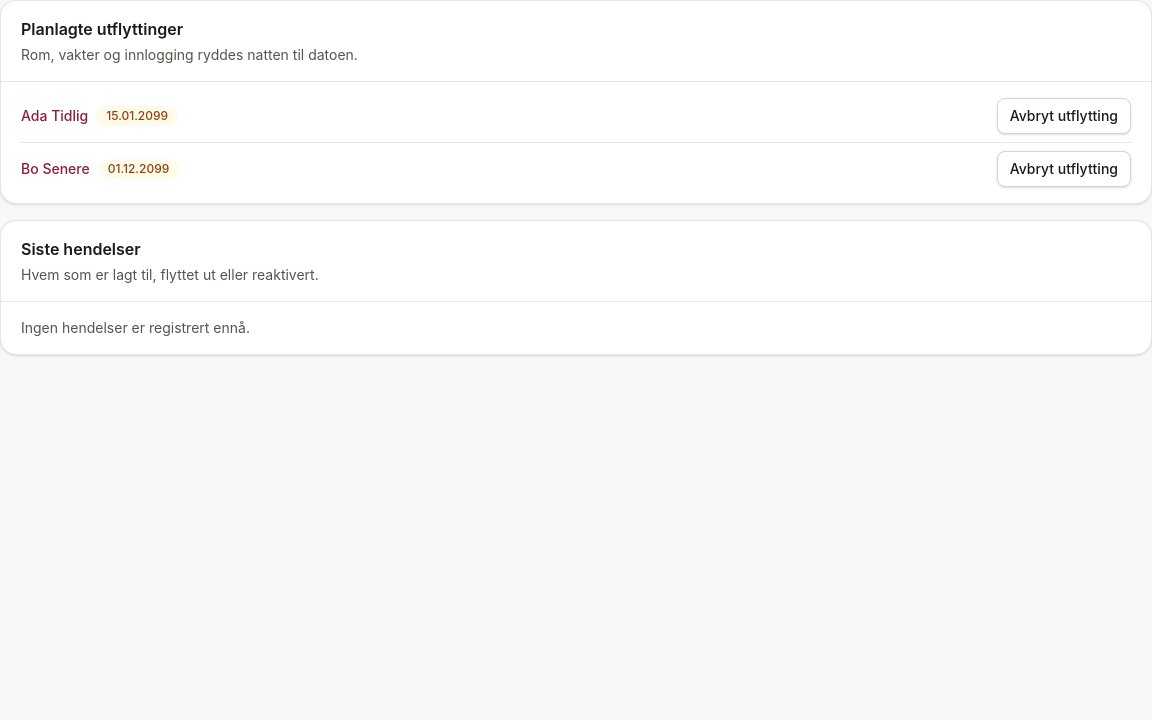
MoveOutsTab › shows why when a cancel is refused, and keeps the list
This screenshot has width=1152, height=720.
What coordinates should you click on to do the following:
click the button "Avbryt utflytting" in the row of "Ada Tidlig"
I would click on:
 (1064, 116)
Its box is [997, 98, 1131, 134].
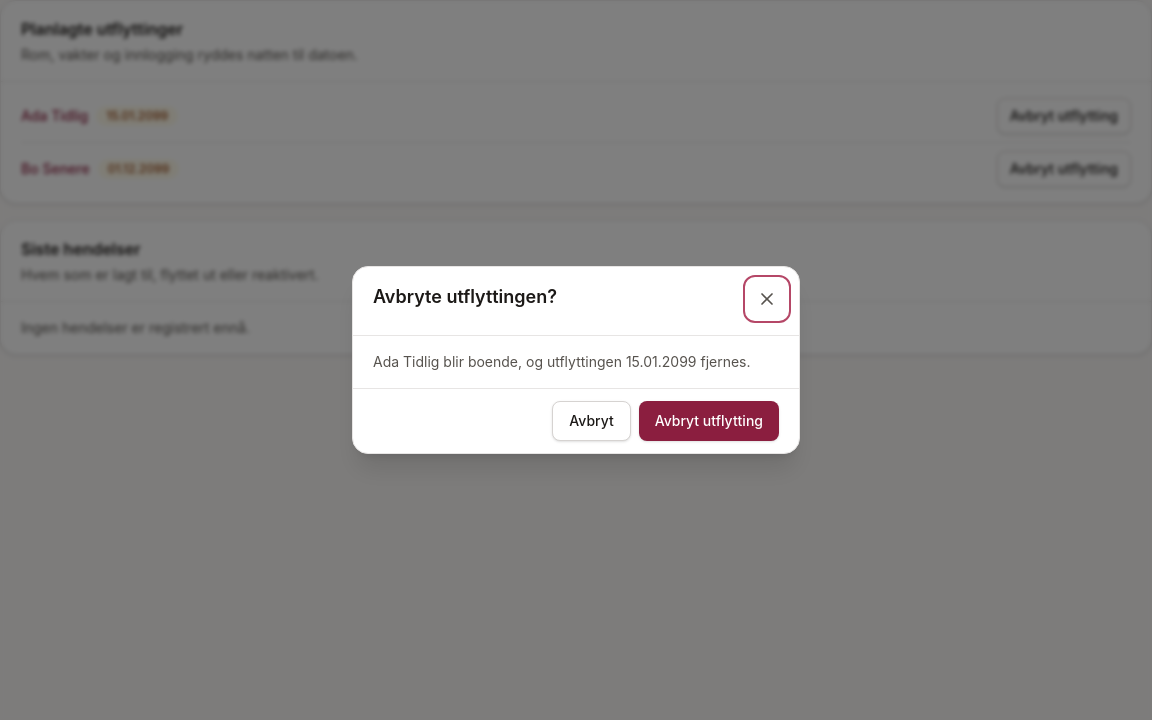
What coordinates should you click on to do the following:
click the button "Avbryt utflytting"
I would click on:
 (709, 421)
Its box is [639, 401, 779, 441].
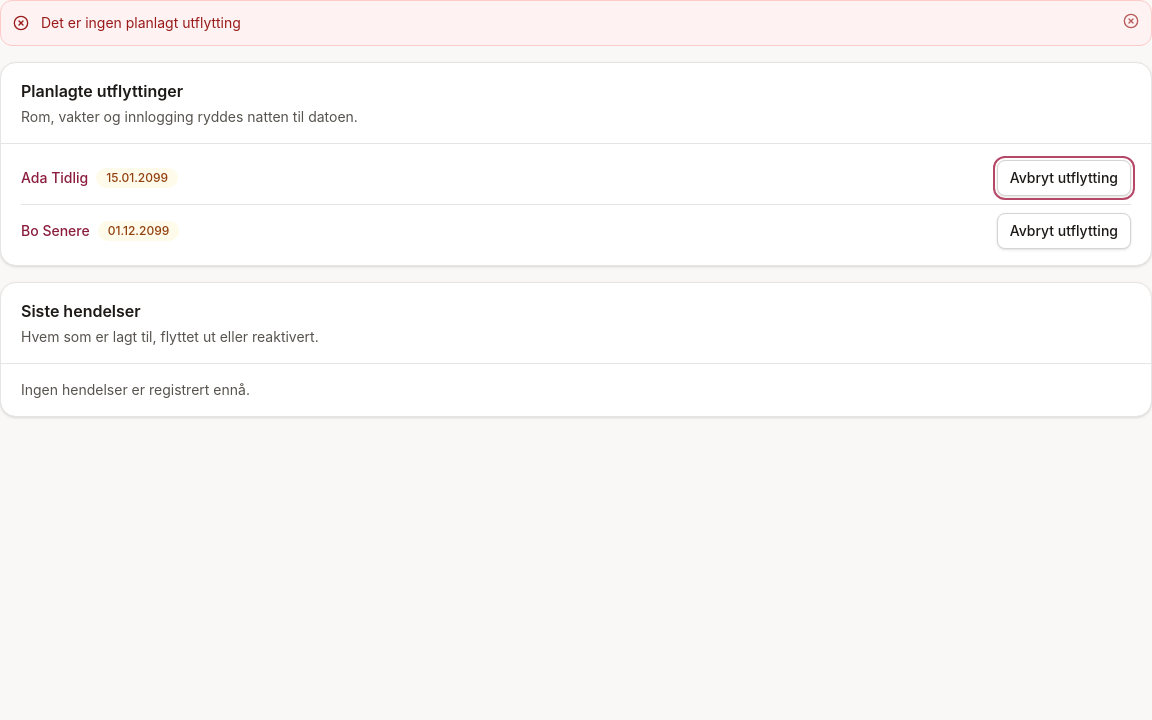
Check: the link "Ada Tidlig" is shown, box [21, 168, 88, 188]
Check: the text "Det er ingen planlagt utflytting" is shown, box [41, 14, 241, 31]
